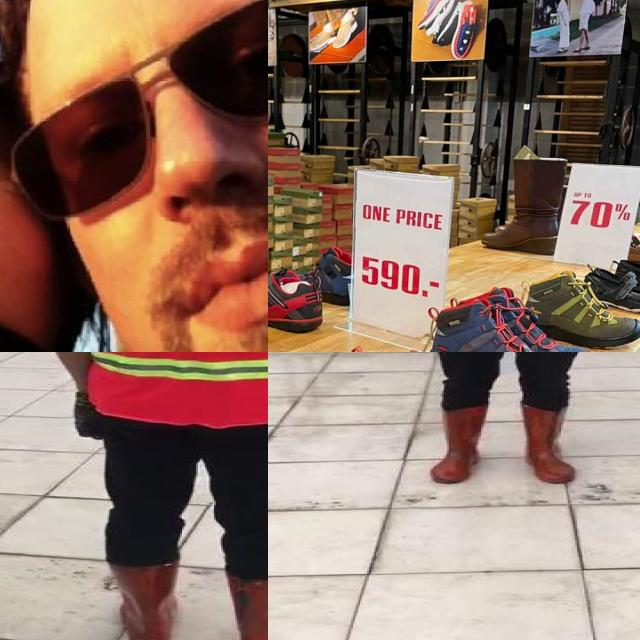boots: (105, 563, 180, 640), (520, 403, 577, 484), (430, 407, 488, 485), (226, 570, 268, 640)
face_nomask: (67, 50, 268, 337)
glasses: (3, 0, 268, 219)
head_nohelmet: (0, 51, 46, 202)
person: (20, 352, 268, 640), (400, 352, 622, 483)
vest: (52, 352, 268, 426)
